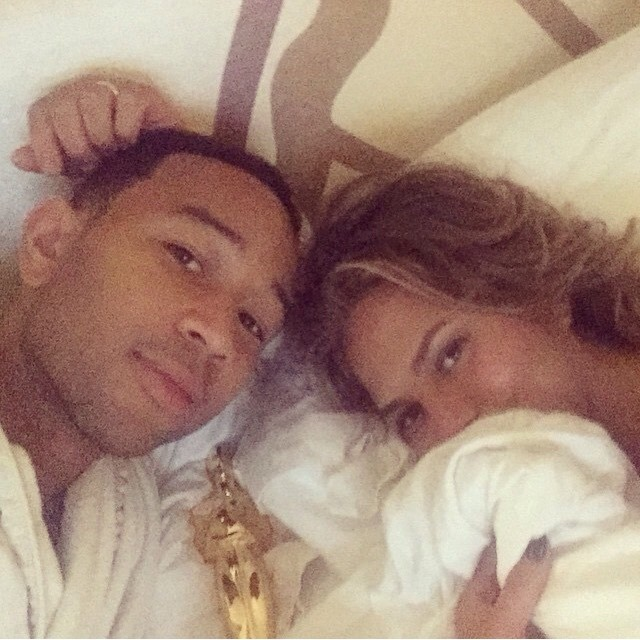human: (27, 118, 289, 466), (342, 288, 599, 473)
